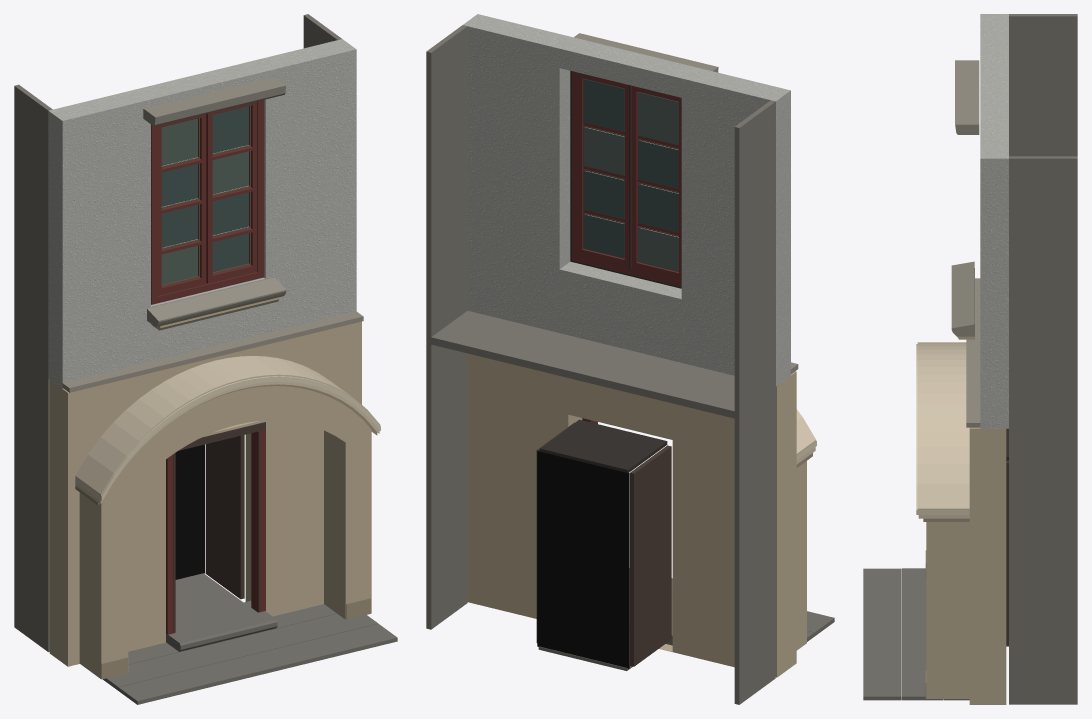
The model's file is hongkou-huayuanli-six-court-arch-lod.glb.
3 views of the same model, side by side, from view 1: azimuth 30°, elevation 25°; view 2: azimuth 150°, elevation 25°; view 3: azimuth 270°, elevation 25° (orthographic). The views are drawn at different scales.
Visible parts, largest first — view 1: 花园里6号曾联松旧居院内券门与双窗; view 2: 花园里6号曾联松旧居院内券门与双窗; view 3: 花园里6号曾联松旧居院内券门与双窗.
Part boxes in pixels (x1,y1,x2,y2): 花园里6号曾联松旧居院内券门与双窗: (14,14,397,704); 花园里6号曾联松旧居院内券门与双窗: (426,14,834,704); 花园里6号曾联松旧居院内券门与双窗: (863,14,1077,704).
Size of the model in its own units: 3.48 by 6.17 by 2.18.
Materials: 15 (1 with a texture image).
